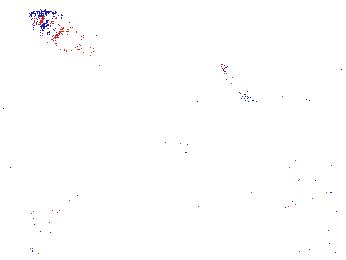X-ray fish: (27, 8, 99, 62)
glassfish: (160, 132, 266, 190)
redtail glassfish: (218, 60, 256, 104)
